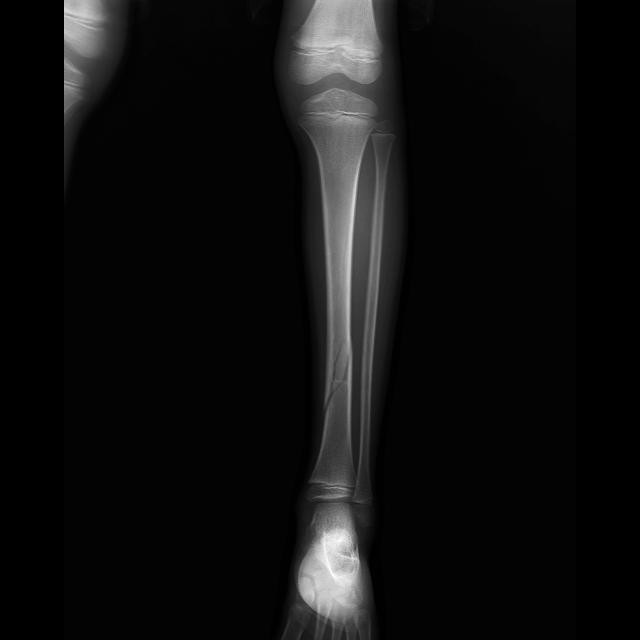Fracture: (320, 332, 352, 415)
